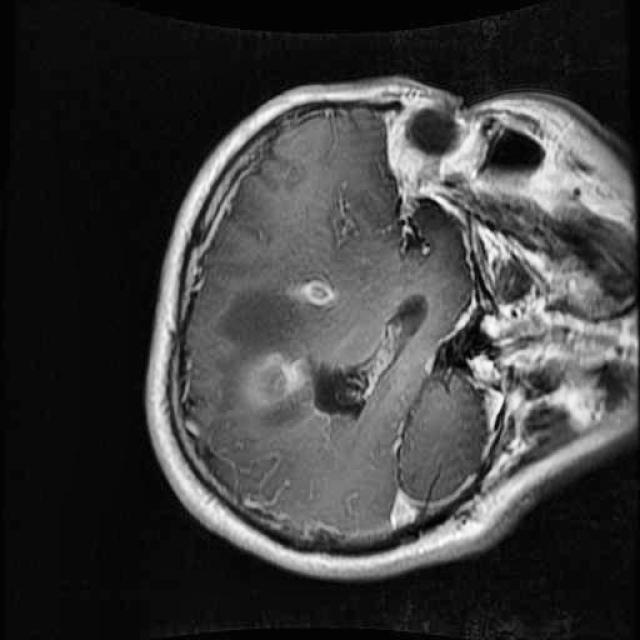Tumor: (224, 260, 348, 435)
